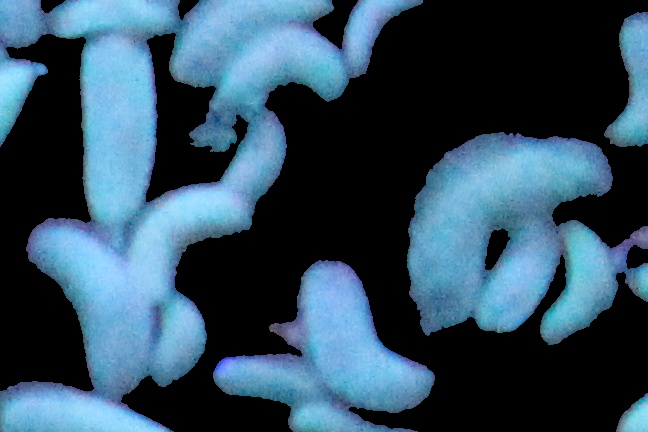larvae: (416, 129, 611, 329), (28, 222, 147, 399), (305, 256, 436, 412), (172, 1, 341, 93), (80, 33, 153, 229), (130, 189, 251, 291), (209, 33, 351, 114), (530, 216, 611, 347), (2, 379, 175, 432), (478, 216, 559, 329), (338, 1, 426, 79), (603, 13, 648, 150), (225, 107, 288, 200), (149, 293, 205, 395), (220, 354, 328, 406), (1, 62, 45, 162), (42, 3, 179, 32)
